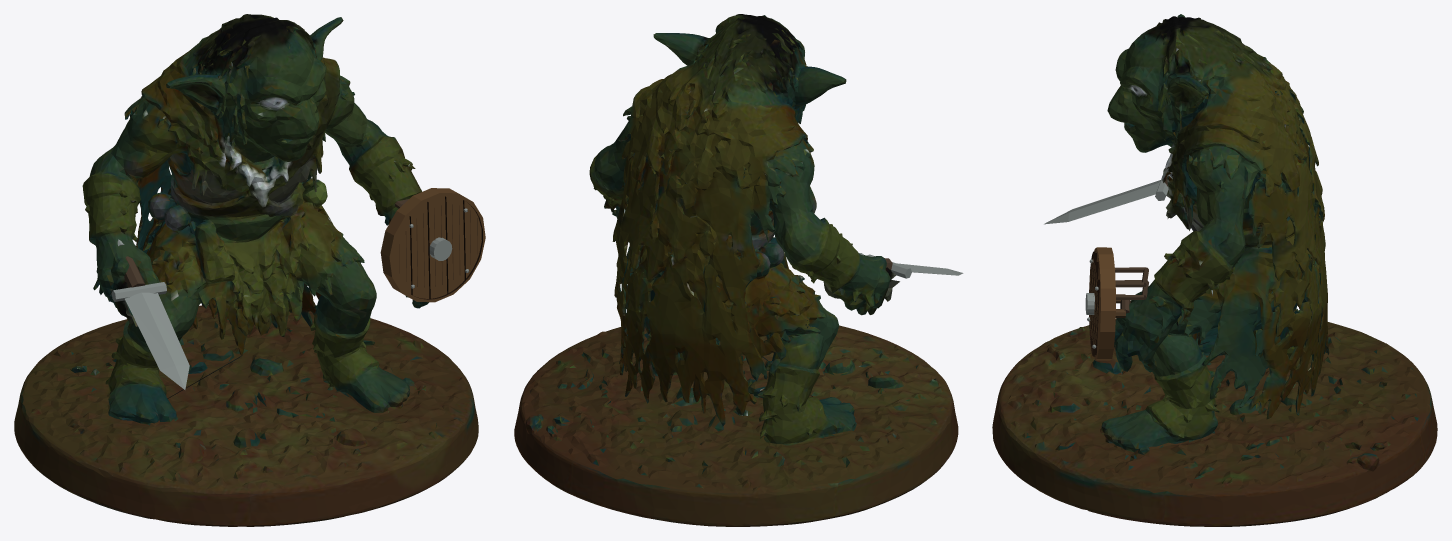
The model's file is goblinCombatente_shortsword_com_escudo.glb.
The picture shows the model from 3 angles, left to right: view 1: azimuth 30°, elevation 25°; view 2: azimuth 150°, elevation 25°; view 3: azimuth 270°, elevation 25°; orthographic projection. The views are drawn at different scales.
Visible parts, largest first — view 1: goblinCombatente_shortsword_com_escudo; view 2: goblinCombatente_shortsword_com_escudo; view 3: goblinCombatente_shortsword_com_escudo.
Boxes of the visible parts, left/top/right/bottom form: goblinCombatente_shortsword_com_escudo: left=14, top=14, right=485, bottom=526; goblinCombatente_shortsword_com_escudo: left=514, top=14, right=963, bottom=526; goblinCombatente_shortsword_com_escudo: left=992, top=14, right=1437, bottom=526.
Bounding box in the file's own units: 1.94 × 1.96 × 1.91.
Materials: 13 (6 with a texture image).
